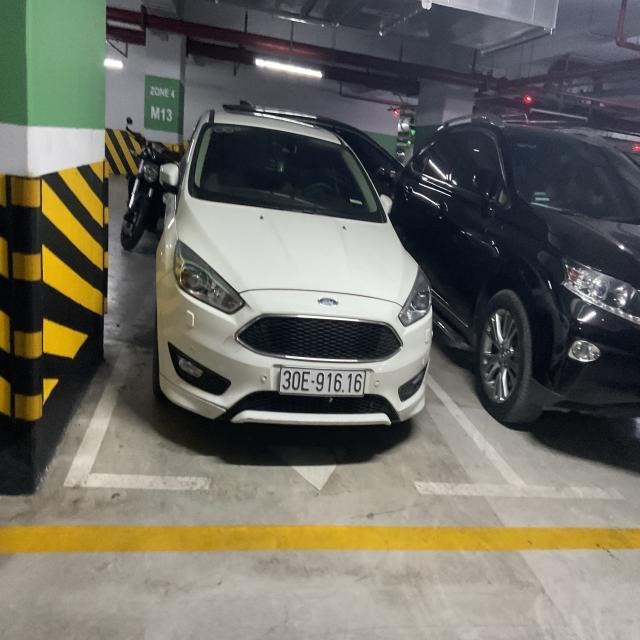license: (278, 367, 367, 397)
